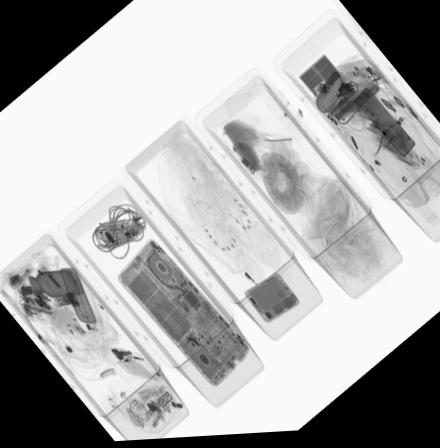Powerbank: (298, 56, 348, 105)
